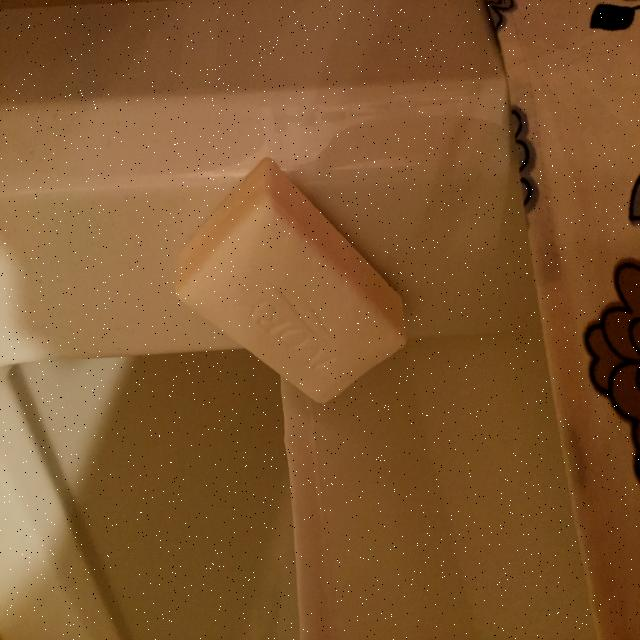soap: (169, 147, 415, 410)
